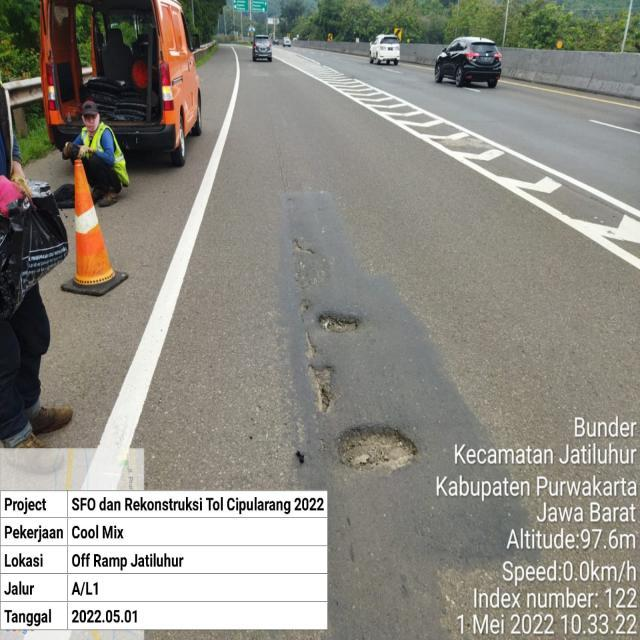Buraco: (330, 422, 421, 477), (304, 362, 341, 419), (314, 310, 364, 335), (295, 297, 316, 324), (302, 330, 320, 361), (290, 238, 317, 257)
